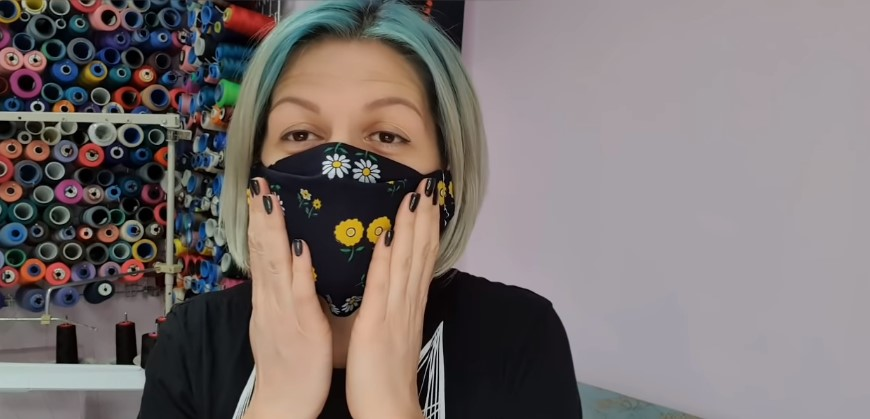face_with_mask: (228, 17, 482, 320)
